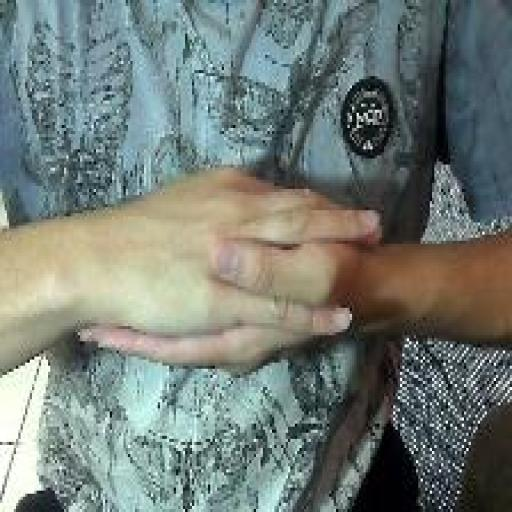Saru -monkey-: (74, 160, 388, 386)
